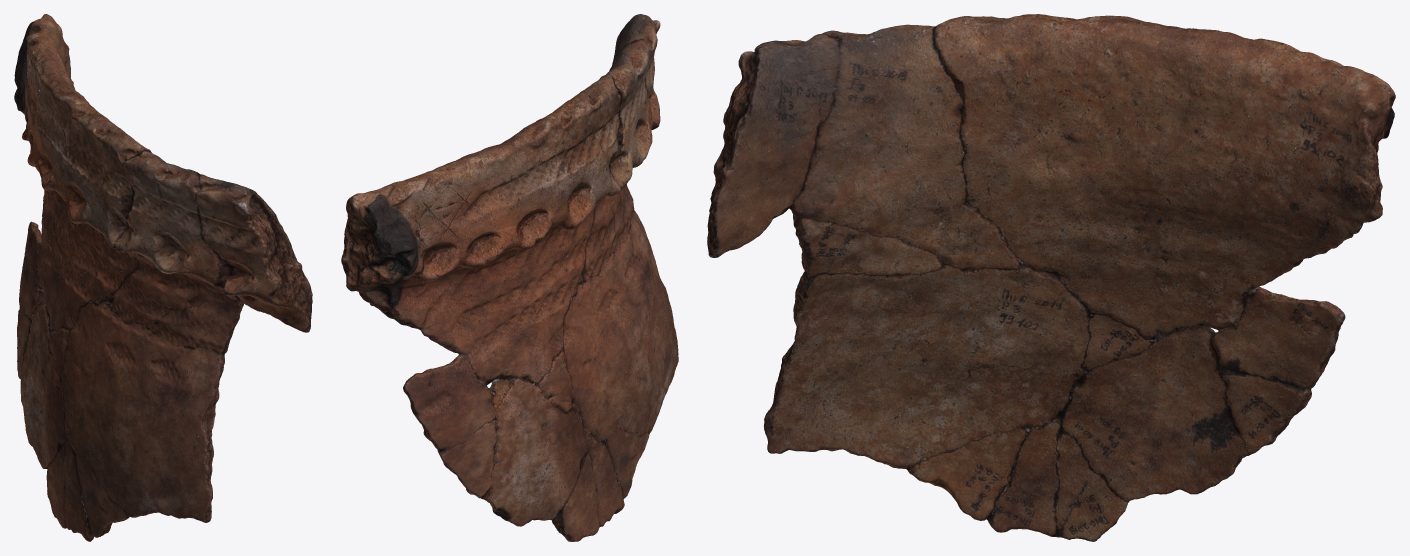
The model's file is cup2_low.glb.
3 renders of one model, left to right at view 1: azimuth 30°, elevation 25°; view 2: azimuth 150°, elevation 25°; view 3: azimuth 270°, elevation 25°, orthographic. The views are drawn at different scales.
Parts seen in each view (by area): view 1: Model; view 2: Model; view 3: Model.
Part boxes in pixels (x1,y1,x2,y2): Model: [14, 14, 312, 541]; Model: [341, 14, 678, 541]; Model: [707, 14, 1395, 541].
Bounding box in the file's own units: 1.01 × 3.05 × 3.55.
Materials: 1 (1 with a texture image).
